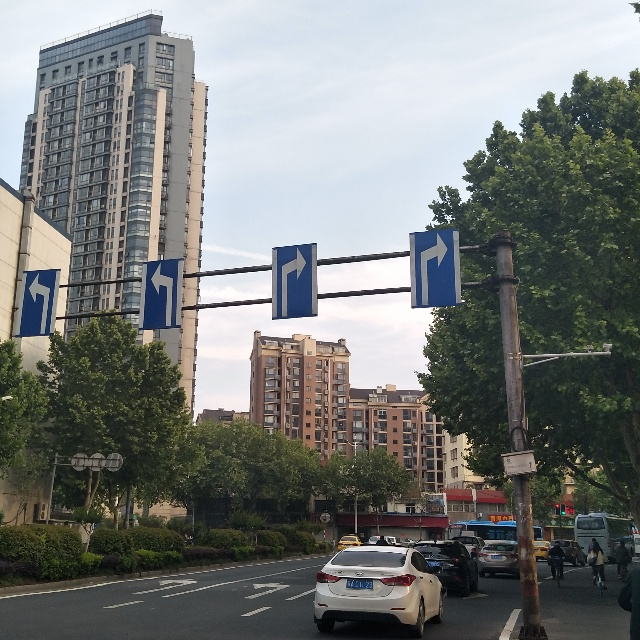left: (143, 264, 184, 326), (18, 271, 56, 333)
right: (416, 228, 457, 309), (273, 246, 318, 316)
